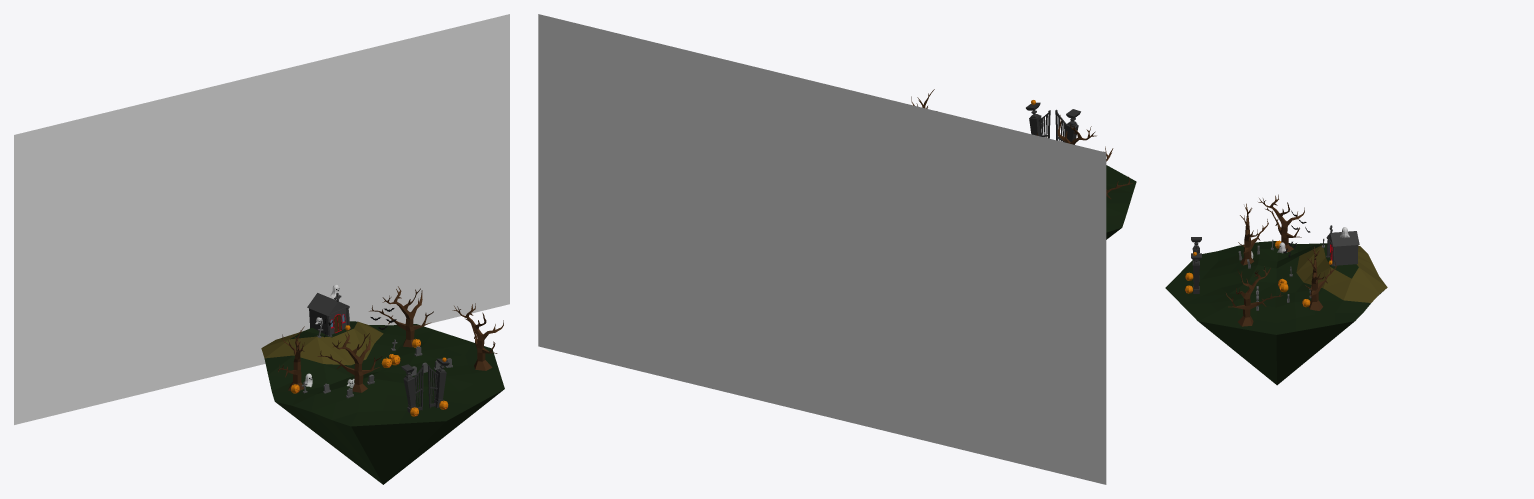
The model's file is lowpoly-graveyard.fbx.
3 renders of one model, left to right at view 1: azimuth 30°, elevation 25°; view 2: azimuth 150°, elevation 25°; view 3: azimuth 270°, elevation 25°, orthographic. The views are drawn at different scales.
Parts seen in each view (by area): view 1: Plane, Cylinder, Cube.006, Cube.012, Cylinder.001, Cylinder.003, Cylinder.002, Cylinder.004; view 2: Plane, Cylinder, Cube.006; view 3: Cylinder, Cube.012, Cylinder.002, Cylinder.004, Cylinder.003, Cylinder.001, Cube.006.
Boxes of the visible parts, box(x1,y1,x2,y2) form: Plane: box(14, 14, 509, 424); Cylinder: box(261, 321, 504, 484); Cube.006: box(401, 358, 449, 412); Cube.012: box(307, 293, 350, 336); Cylinder.001: box(317, 331, 382, 392); Cylinder.003: box(369, 286, 433, 347); Cylinder.002: box(452, 303, 503, 370); Cylinder.004: box(278, 326, 304, 390); Plane: box(538, 14, 1106, 484); Cylinder: box(1106, 165, 1136, 239); Cube.006: box(1026, 102, 1080, 142); Cylinder: box(1165, 241, 1387, 385); Cube.012: box(1326, 225, 1359, 266); Cylinder.002: box(1226, 266, 1282, 326); Cylinder.004: box(1258, 194, 1304, 251); Cylinder.003: box(1305, 246, 1336, 310); Cylinder.001: box(1238, 203, 1268, 265); Cube.006: box(1191, 237, 1201, 293).
Bounding box in the file's own units: 8462 × 4997 × 5918.
